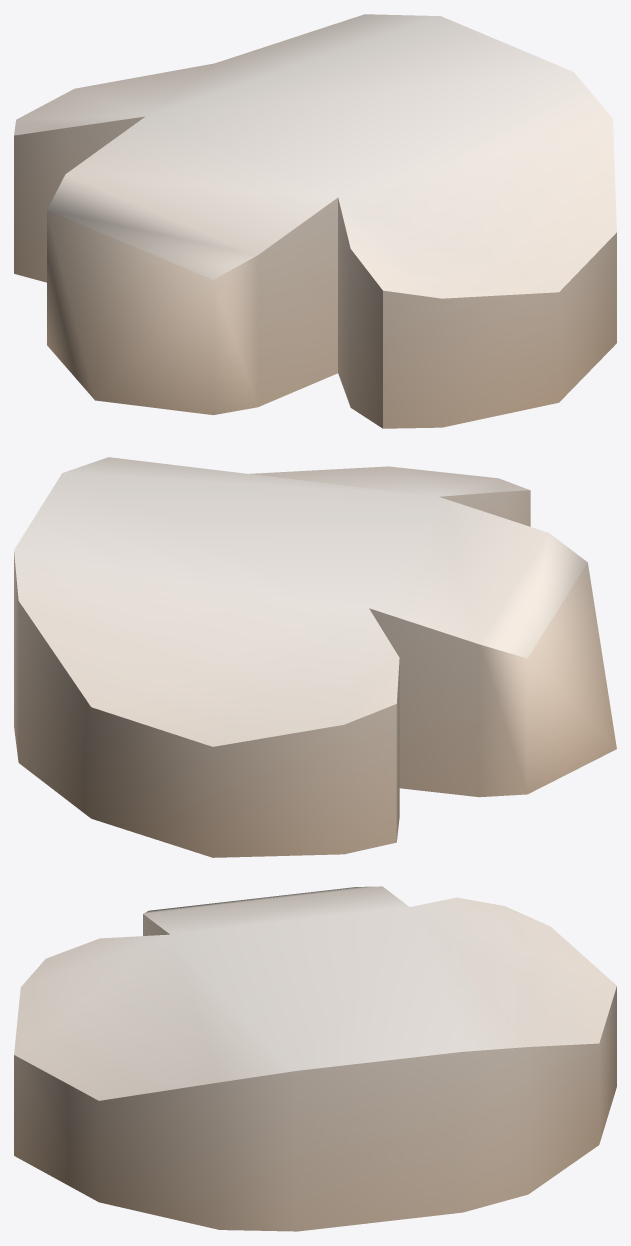
File: food_ingredient_mushroom_gib_B.gltf
3 views of the same model, one above another, from view 1: azimuth 30°, elevation 25°; view 2: azimuth 150°, elevation 25°; view 3: azimuth 270°, elevation 25° (orthographic). The views are drawn at different scales.
Visible parts, largest first — view 1: food_ingredient_mushroom_pieces; view 2: food_ingredient_mushroom_pieces; view 3: food_ingredient_mushroom_pieces.
Boxes of the visible parts, left/top/right/bottom form: food_ingredient_mushroom_pieces: left=14, top=14, right=616, bottom=428; food_ingredient_mushroom_pieces: left=14, top=457, right=616, bottom=857; food_ingredient_mushroom_pieces: left=14, top=886, right=616, bottom=1231.
Size of the model in its own units: 0.1382 by 0.045 by 0.1531.
1 material, 1 textured.
